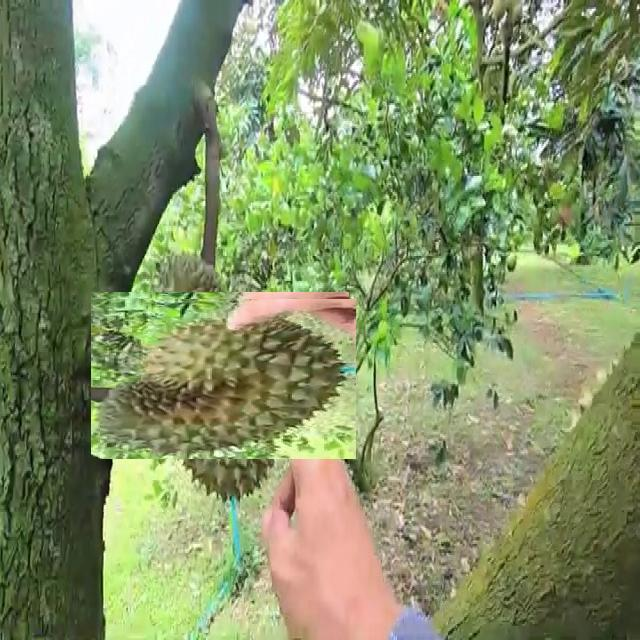durian: (117, 273, 331, 485), (116, 267, 325, 476)
